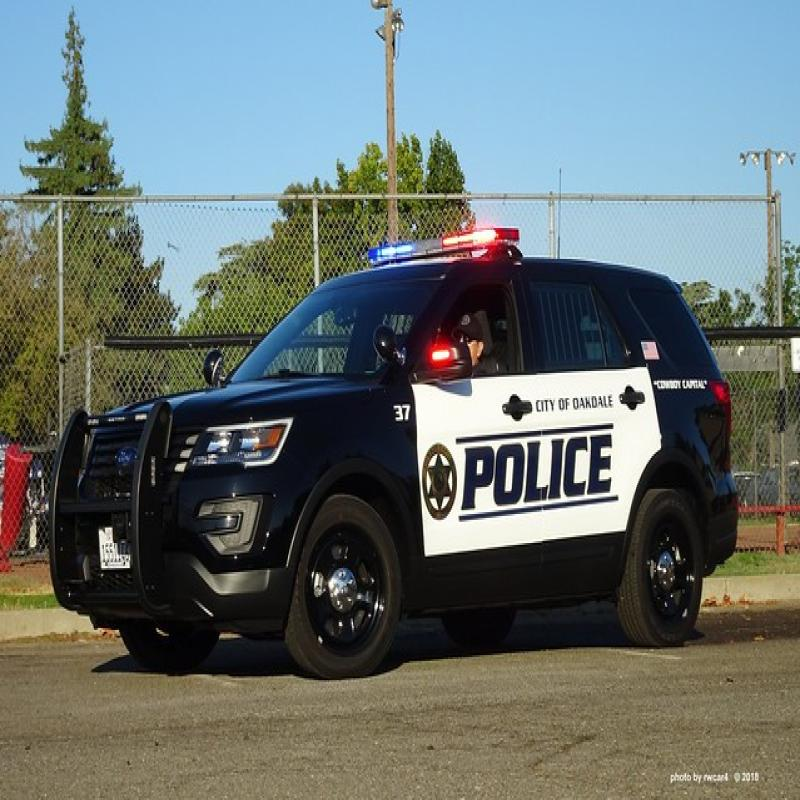AmbulanceSiren: (349, 221, 518, 261)
